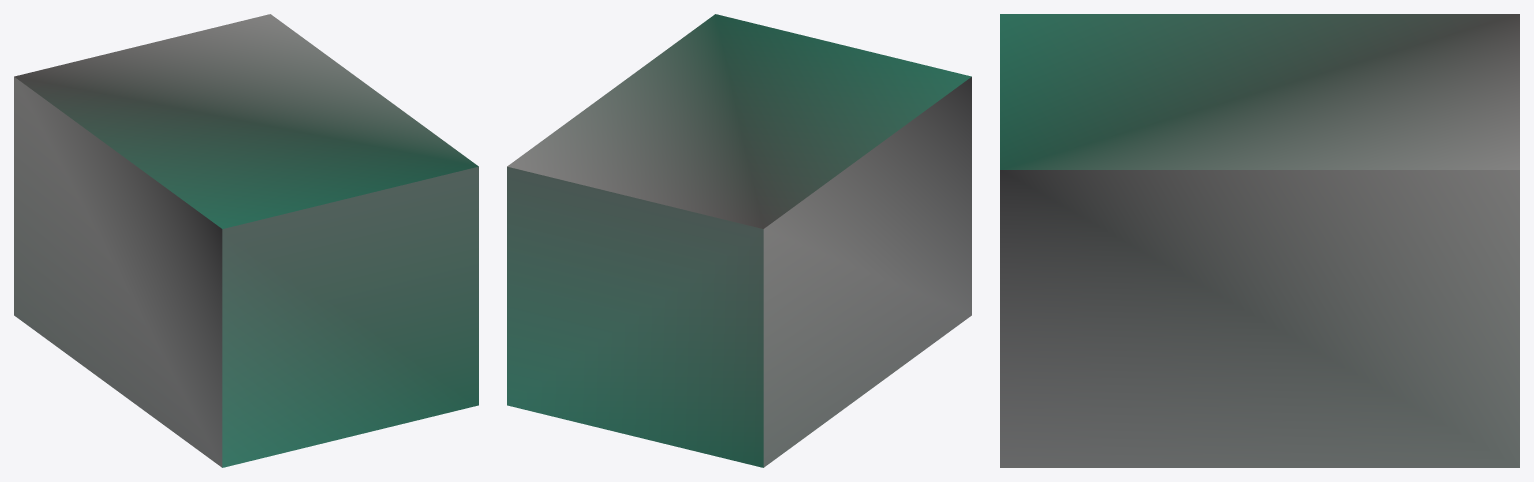
File: truck-green-cargo.glb
3 views of the same model, side by side, from view 1: azimuth 30°, elevation 25°; view 2: azimuth 150°, elevation 25°; view 3: azimuth 270°, elevation 25° (orthographic). The views are drawn at different scales.
Visible parts, largest first — view 1: truck-green-cargo; view 2: truck-green-cargo; view 3: truck-green-cargo.
Boxes of the visible parts, left/top/right/bottom form: truck-green-cargo: left=14, top=14, right=478, bottom=467; truck-green-cargo: left=507, top=14, right=971, bottom=467; truck-green-cargo: left=1000, top=14, right=1519, bottom=467.
Size of the model in its own units: 0.83 by 0.7384 by 1.17.
